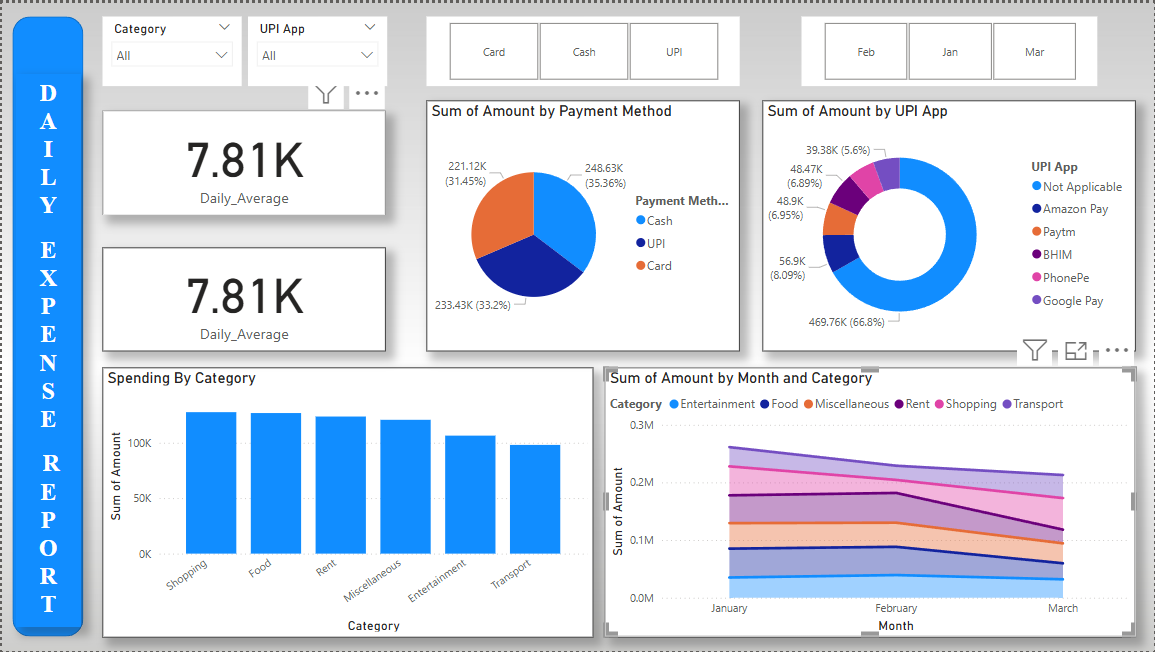

The dashboard page shown, as its layout file describes it:
{"tool":"powerbi","page":{"name":"Page 1","canvas":[1280,720],"ordinal":0},"visuals":[{"type":"clusteredColumnChart","title":"Spending By Category","fields":{"Category":["Daily_Expense_Data_Jan_Mar_2025.Category"],"Y":["Sum(Daily_Expense_Data_Jan_Mar_2025.Amount)"]},"box":[112.1,404.3,545.1,299.8],"z":0},{"type":"slicer","fields":{"Values":["Daily_Expense_Data_Jan_Mar_2025.Transaction_Month"]},"box":[888.8,15.1,328.6,77.2],"z":1000},{"type":"pieChart","fields":{"Category":["Daily_Expense_Data_Jan_Mar_2025.Payment Method"],"Y":["Sum(Daily_Expense_Data_Jan_Mar_2025.Amount)"]},"box":[470.9,107.5,348.3,278.6],"z":2000},{"type":"donutChart","fields":{"Category":["Daily_Expense_Data_Jan_Mar_2025.UPI App"],"Y":["Sum(Daily_Expense_Data_Jan_Mar_2025.Amount)"]},"box":[844.9,107.5,414.9,278.6],"z":3000},{"type":"card","fields":{"Values":["Key Measures.Daily_Average"]},"box":[112.1,119.6,315,115.1],"z":4000},{"type":"stackedAreaChart","fields":{"Category":["Daily_Expense_Data_Jan_Mar_2025.Date.Variation.Date Hierarchy.Month"],"Series":["Daily_Expense_Data_Jan_Mar_2025.Category"],"Y":["Sum(Daily_Expense_Data_Jan_Mar_2025.Amount)"]},"box":[670.8,404.3,589,299.8],"z":5000},{"type":"slicer","fields":{"Values":["Daily_Expense_Data_Jan_Mar_2025.Payment Method"]},"box":[470.9,15.1,348.3,77.2],"z":6000},{"type":"slicer","fields":{"Values":["Daily_Expense_Data_Jan_Mar_2025.Category"]},"box":[112.1,15.1,154.4,77.2],"z":7000},{"type":"slicer","fields":{"Values":["Daily_Expense_Data_Jan_Mar_2025.UPI App"]},"box":[272.6,15.1,154.4,77.2],"z":8000},{"type":"card","fields":{"Values":["Key Measures.Daily_Average"]},"box":[112.1,271,315,115.1],"z":9000},{"type":"shape","box":[12.1,15.1,78.7,689],"z":10000},{"type":"textbox","box":[15.1,78.7,72.7,614.8],"z":11000}]}

Visuals, with their boxes in screenshot pixels (x1, y1, x2, y2), scaled from the page's 1280x720 canvas onto the 1155x652 screenshot:
"Spending By Category" clusteredColumnChart: l=101, t=366, r=593, b=638
slicer - Daily_Expense_Data_Jan_Mar_2025.Transaction_Month: l=802, t=14, r=1099, b=84
pieChart - Daily_Expense_Data_Jan_Mar_2025.Payment Method x Sum(Daily_Expense_Data_Jan_Mar_2025.Amount): l=425, t=97, r=739, b=350
donutChart - Daily_Expense_Data_Jan_Mar_2025.UPI App x Sum(Daily_Expense_Data_Jan_Mar_2025.Amount): l=762, t=97, r=1137, b=350
card - Key Measures.Daily_Average: l=101, t=108, r=385, b=213
stackedAreaChart - Daily_Expense_Data_Jan_Mar_2025.Date.Variation.Date Hierarchy.Month x Daily_Expense_Data_Jan_Mar_2025.Category: l=605, t=366, r=1137, b=638
slicer - Daily_Expense_Data_Jan_Mar_2025.Payment Method: l=425, t=14, r=739, b=84
slicer - Daily_Expense_Data_Jan_Mar_2025.Category: l=101, t=14, r=240, b=84
slicer - Daily_Expense_Data_Jan_Mar_2025.UPI App: l=246, t=14, r=385, b=84
card - Key Measures.Daily_Average: l=101, t=245, r=385, b=350
shape: l=11, t=14, r=82, b=638
textbox: l=14, t=71, r=79, b=628
